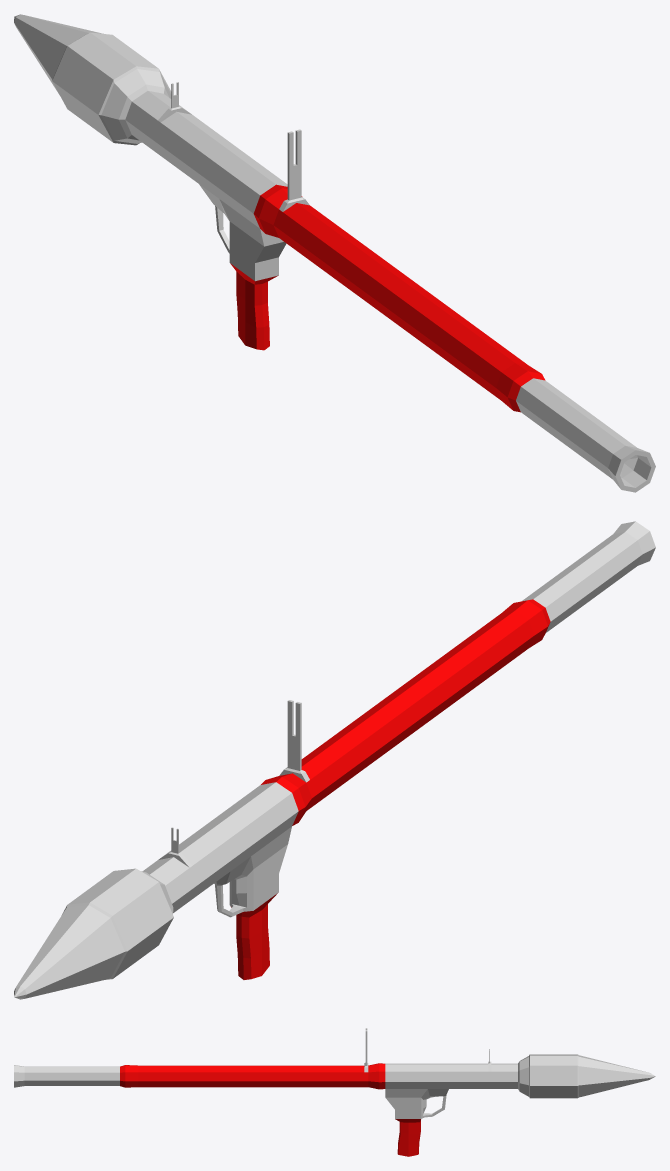
File: RPG-2.glb
3 views of the same model, one above another, from view 1: azimuth 30°, elevation 25°; view 2: azimuth 150°, elevation 25°; view 3: azimuth 270°, elevation 25° (orthographic). The views are drawn at different scales.
Parts seen in each view (by area): view 1: RPG-2; view 2: RPG-2; view 3: RPG-2.
Boxes of the visible parts, x1,y1,x2,y2 form: RPG-2: (14, 14, 655, 492); RPG-2: (14, 521, 655, 999); RPG-2: (14, 1028, 655, 1156).
Size of the model in its own units: 0.085 by 0.262 by 1.21.
